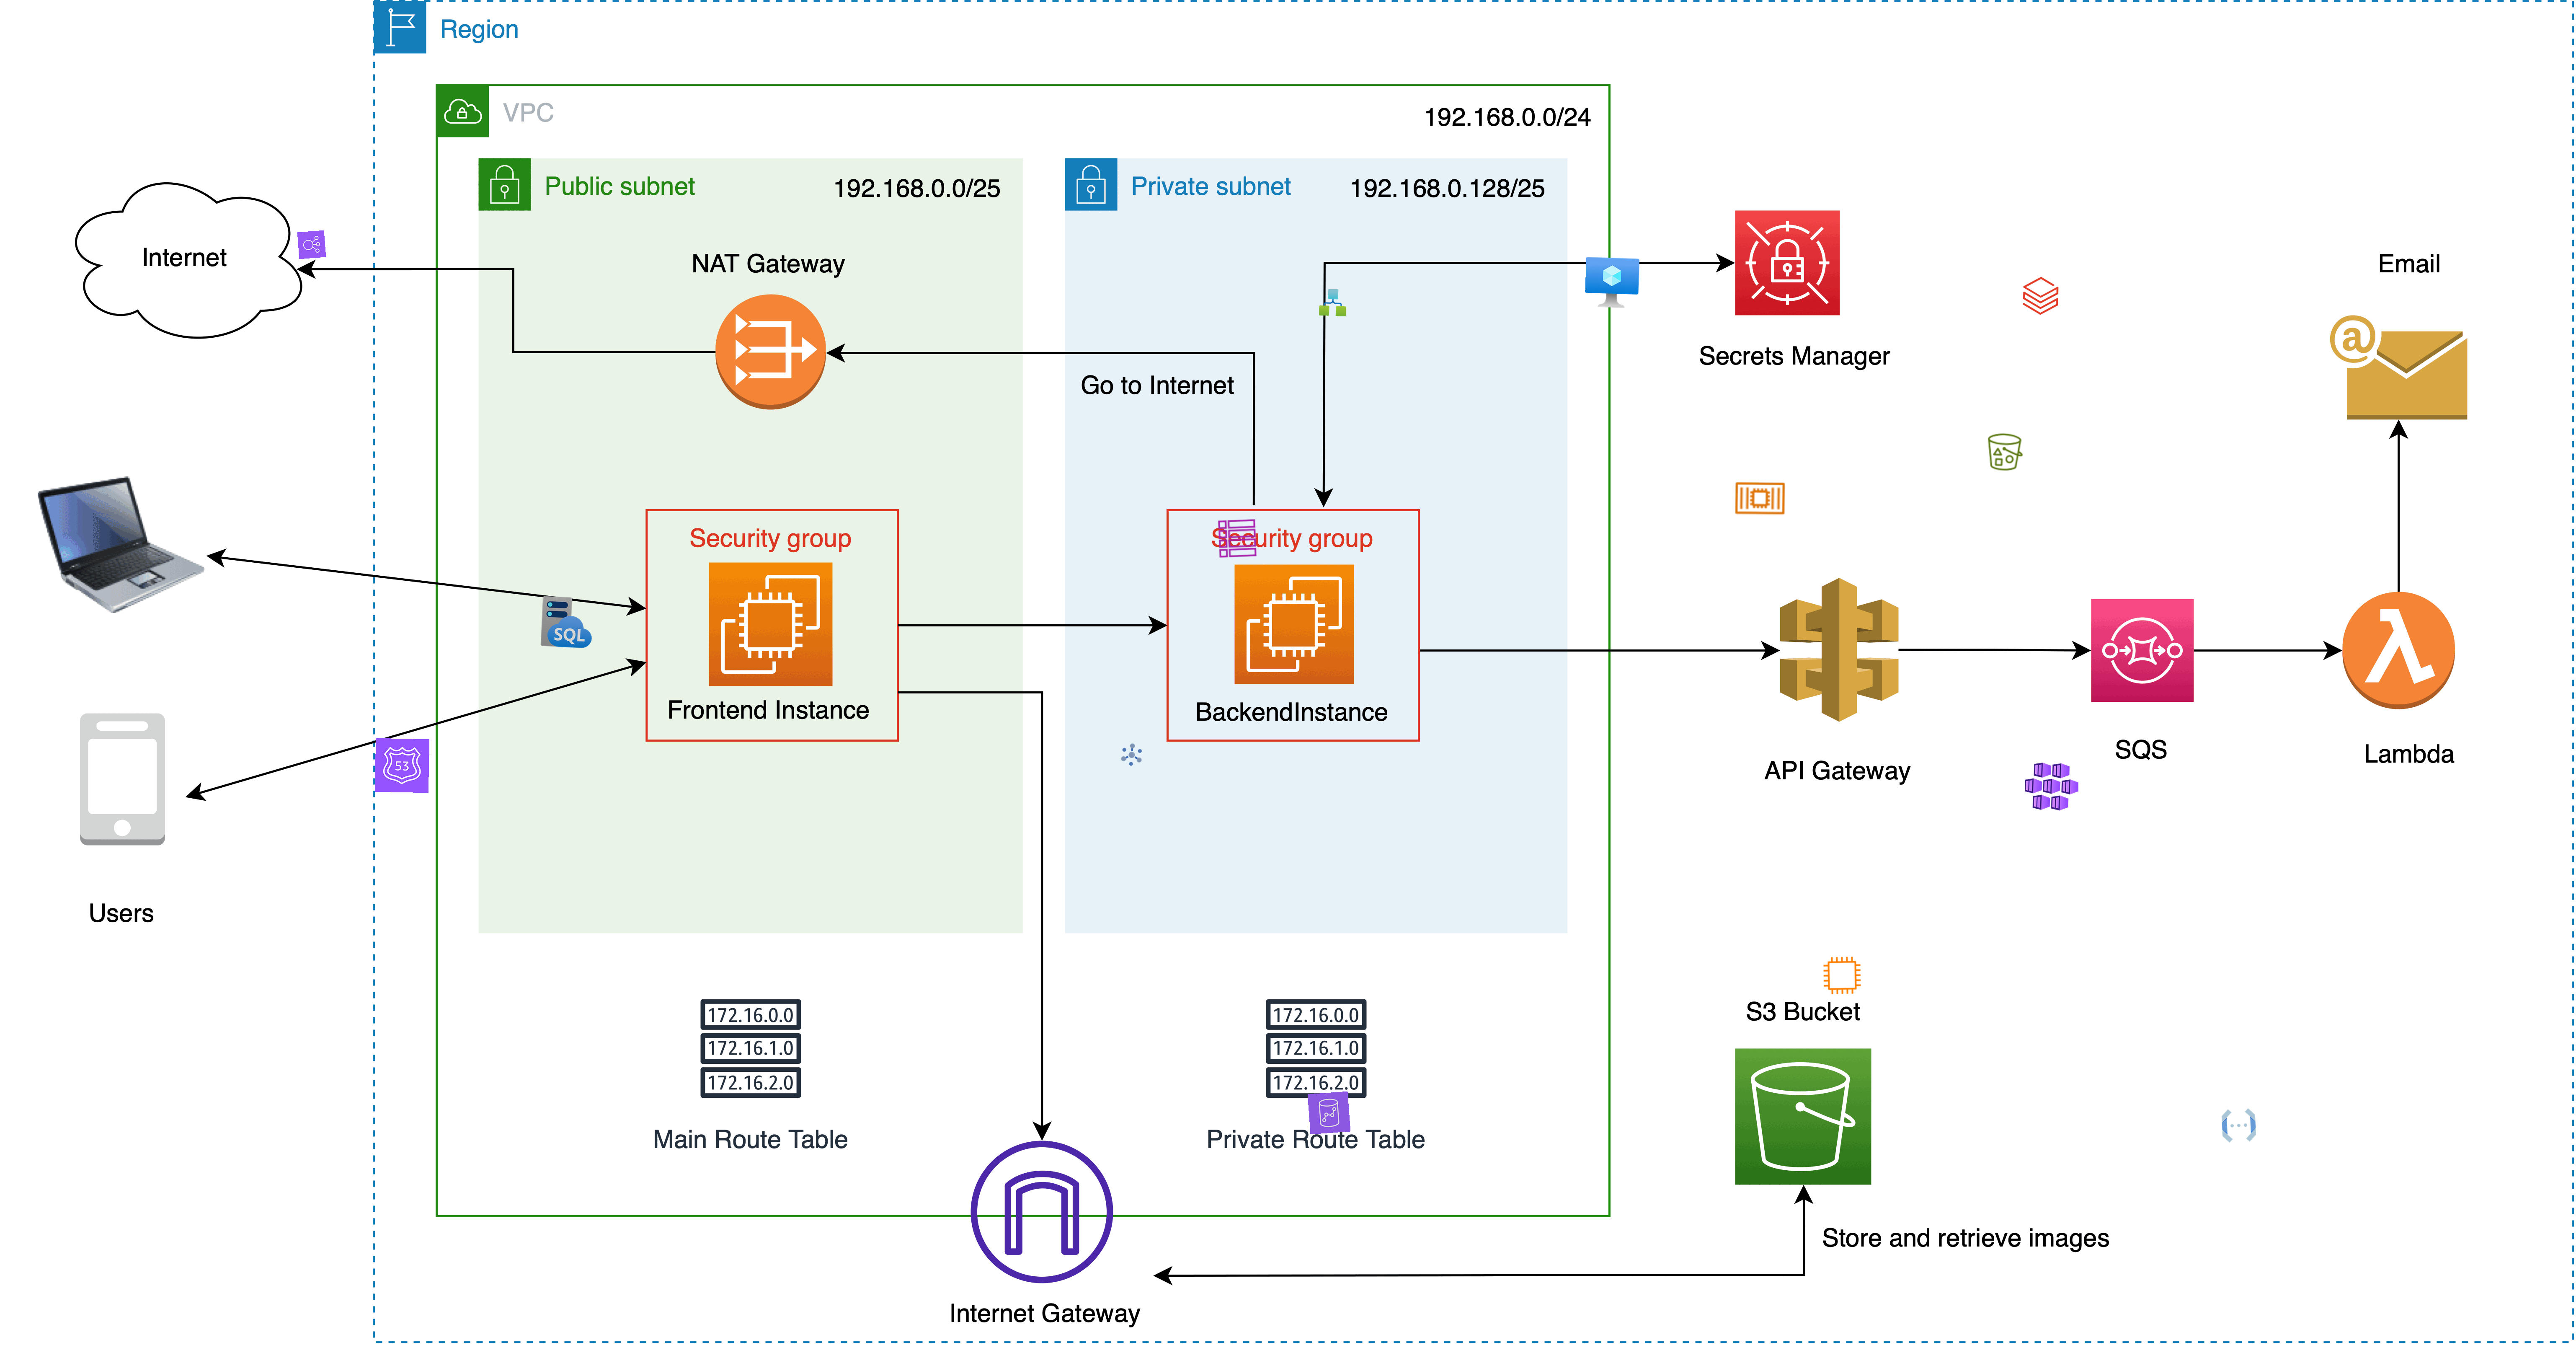aws_amazon_redshift: (1307, 1091, 1351, 1135)
aws_amazon_route_53: (375, 738, 429, 793)
aws_dynamodb_table: (1216, 518, 1259, 559)
aws_ec2_instance: (1821, 955, 1862, 996)
aws_elastic_container_service_container_2: (1733, 470, 1787, 525)
aws_elastic_load_balancing: (296, 230, 327, 259)
aws_simple_storage_service_bucket_with_objects: (1983, 431, 2026, 474)
azure_databricks: (2021, 274, 2061, 317)
azure_kubernetes_services: (2024, 759, 2079, 813)
azure_logic_apps: (1319, 288, 1348, 317)
azure_sql_managed_instance: (538, 595, 595, 649)
azure_virtual_machine: (1584, 256, 1641, 312)
gcp_cloud_functions: (2218, 1105, 2261, 1147)
gcp_pubsub: (1118, 740, 1147, 769)
